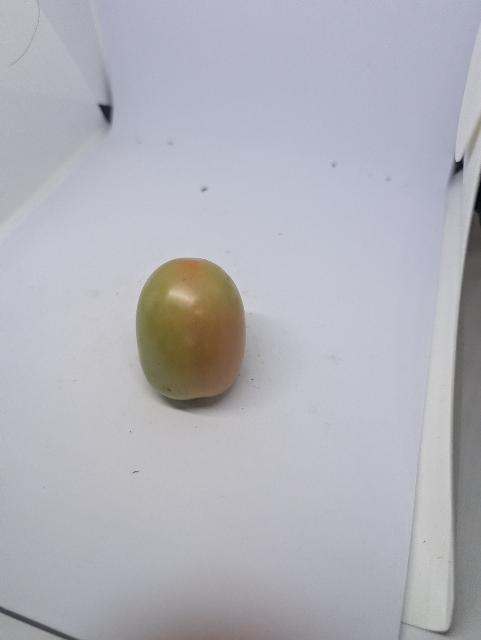breaker: (136, 258, 246, 400)
